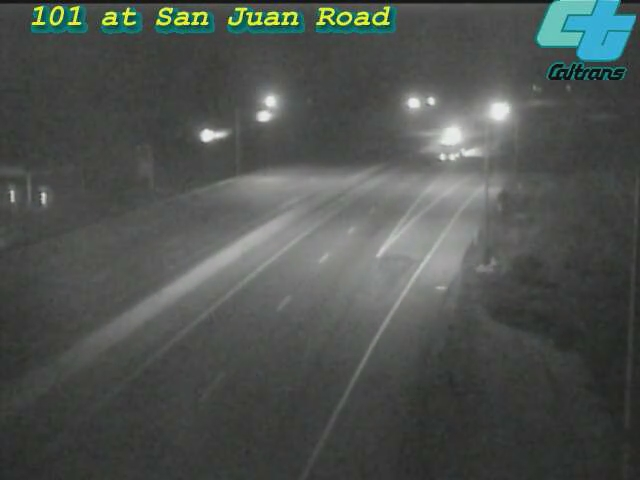vehicle: (431, 107, 481, 157), (471, 87, 521, 137), (423, 126, 473, 176)
